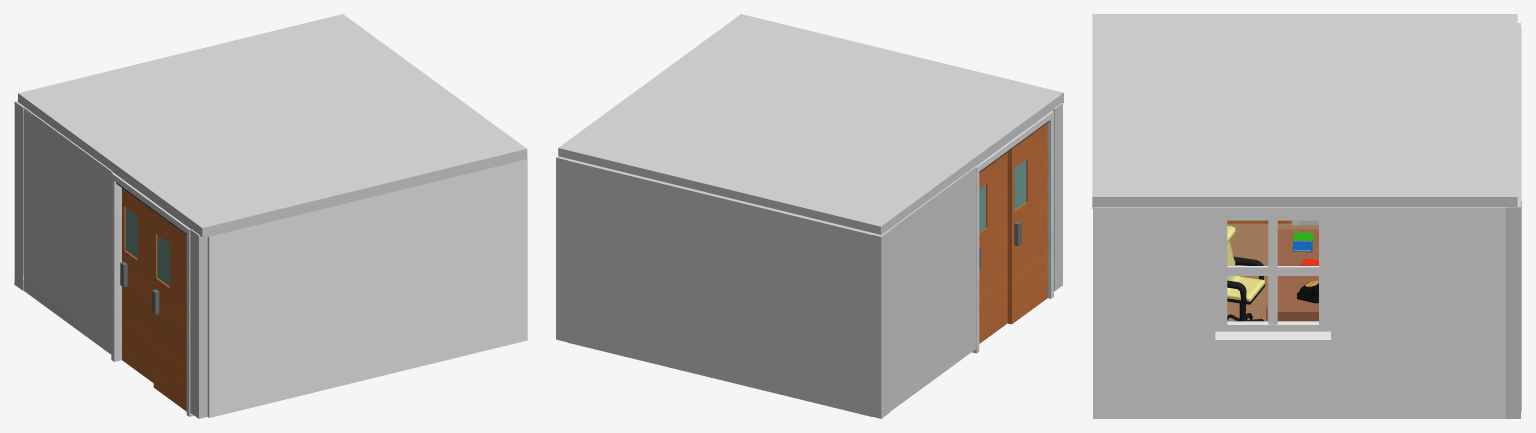
Rendered from office_glb.glb.
The picture shows the model from 3 angles, left to right: view 1: azimuth 30°, elevation 25°; view 2: azimuth 150°, elevation 25°; view 3: azimuth 270°, elevation 25°; orthographic projection. The views are drawn at different scales.
Parts seen in each view (by area): view 1: ceiling, PRINCIPALOFFICEdemoscene_4, column.002, ClassRoomDoor_8.001, ClassRoomDoor_10.001, DoorClassroom_1, column.001, column.004; view 2: ceiling, column.003, column.002, ClassRoomDoor_8.001, ClassRoomDoor_10.001, column.004, DoorClassroom_1, column.006, column.001; view 3: PRINCIPALOFFICEdemoscene_4, ceiling, column.006, PRINCIPALOFFICEdemoscene_32, PRINCIPALOFFICEdemoscene_22, column.003.
Part boxes in pixels (box(x1,y1,x2,y2)): ceiling: box(18, 14, 527, 238); PRINCIPALOFFICEdemoscene_4: box(207, 157, 527, 417); column.002: box(21, 104, 112, 354); ClassRoomDoor_8.001: box(152, 211, 186, 411); ClassRoomDoor_10.001: box(120, 188, 153, 382); DoorClassroom_1: box(111, 172, 193, 416); column.001: box(190, 229, 207, 418); column.004: box(14, 100, 23, 290); ceiling: box(558, 14, 1063, 234); column.003: box(567, 159, 874, 416); column.002: box(885, 166, 976, 411); ClassRoomDoor_8.001: box(1007, 123, 1047, 324); ClassRoomDoor_10.001: box(979, 152, 1007, 343); column.004: box(872, 230, 889, 418); DoorClassroom_1: box(972, 111, 1053, 353); column.006: box(556, 156, 569, 342); column.001: box(1052, 103, 1062, 291); PRINCIPALOFFICEdemoscene_4: box(1093, 207, 1505, 418); ceiling: box(1092, 14, 1517, 208); column.006: box(1506, 200, 1520, 418); PRINCIPALOFFICEdemoscene_32: box(1277, 229, 1318, 321); PRINCIPALOFFICEdemoscene_22: box(1227, 225, 1265, 321); column.003: box(1517, 28, 1521, 412).
Size of the model in its own units: 6.62 by 3.8 by 6.51.
Materials: 9 (9 with a texture image).
